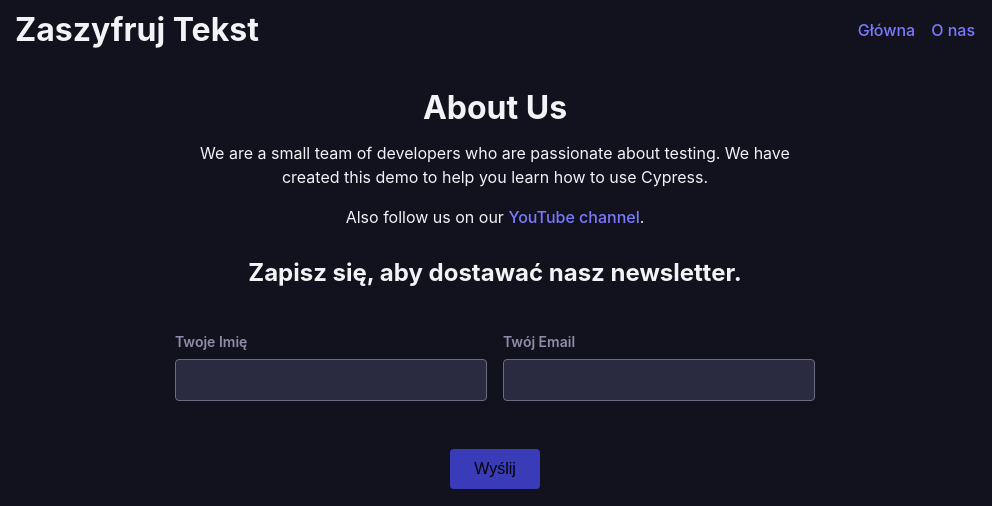
Test: vigenere page tests › test the submit button
The image size is (992, 506).
Check: the text "Wysyłanie" is not shown
Type "Jan" into the field with test id "contact-input-name".
click(331, 380); type("Jan")  # box 175,359 -> 487,401
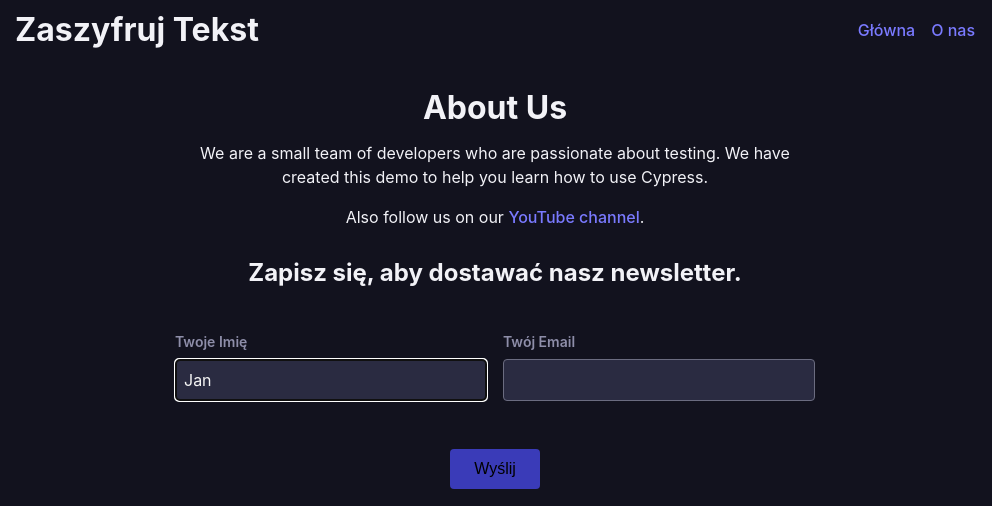
Type "jan@jan.com" into the field with test id "contact-input-email".
click(659, 380); type("jan@jan.com")  # box 503,359 -> 815,401
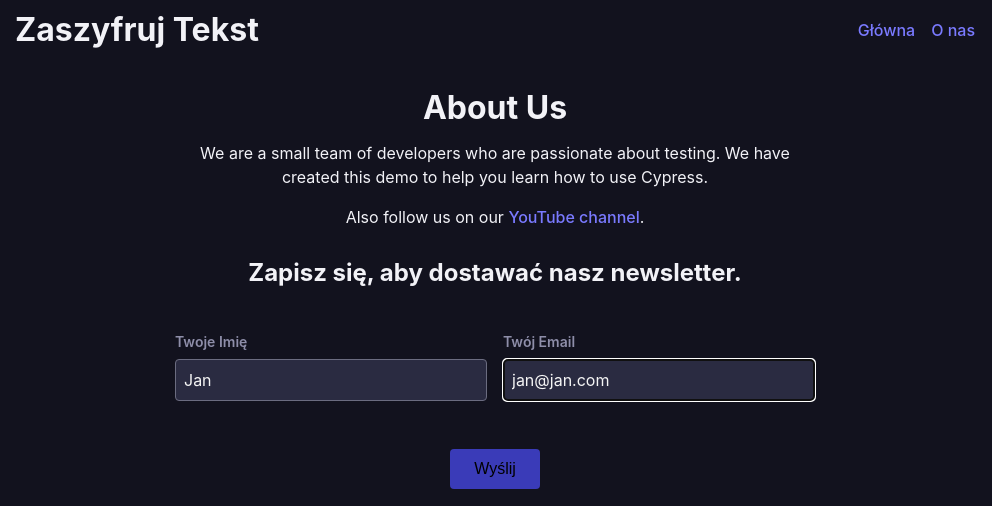
Click the button with test id "contact-btn-submit".
click(495, 469)  # box 450,449 -> 540,489
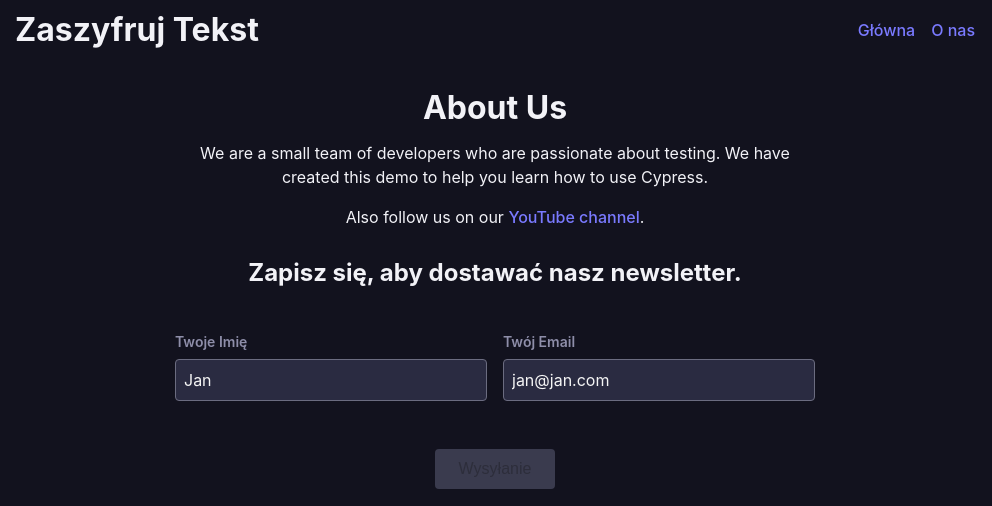
Check: the button "Wysyłanie" is shown, box 435,449 -> 555,489
